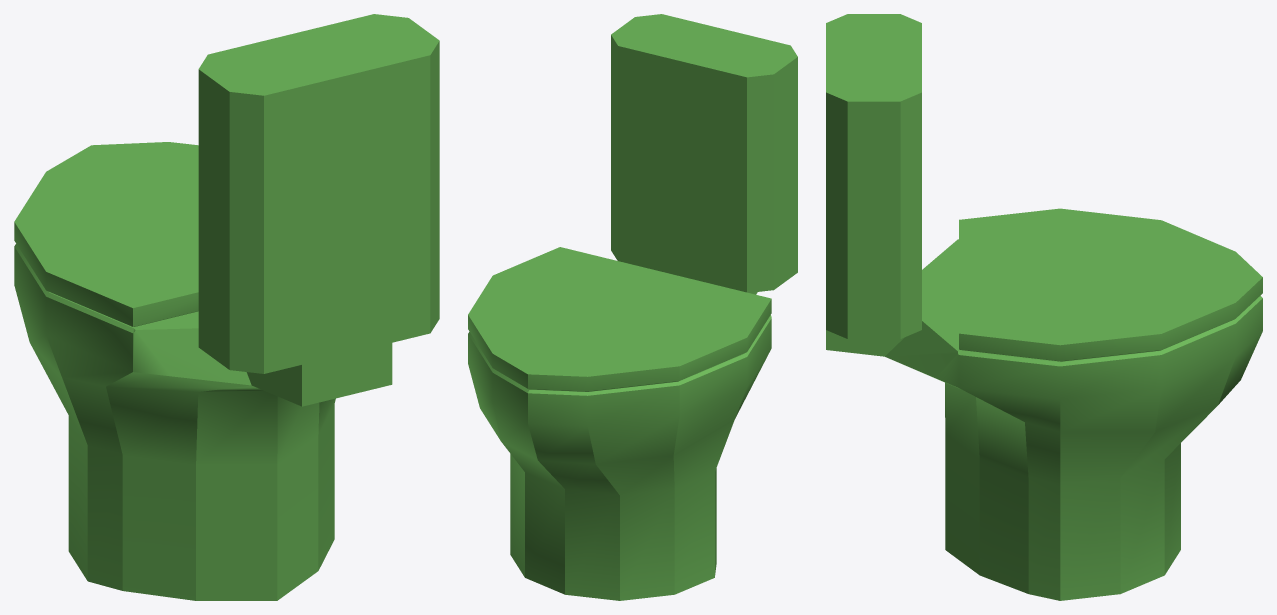
File: Toilet.fbx
3 views of the same model, side by side, from view 1: azimuth 30°, elevation 25°; view 2: azimuth 150°, elevation 25°; view 3: azimuth 270°, elevation 25° (orthographic). The views are drawn at different scales.
Visible parts, largest first — view 1: polySurface2, polySurface3; view 2: polySurface2, polySurface3; view 3: polySurface2, polySurface3.
Part boxes in pixels (<box>): polySurface2: <box>14,14,439,600</box>; polySurface3: <box>14,142,198,326</box>; polySurface2: <box>468,14,797,600</box>; polySurface3: <box>468,247,771,391</box>; polySurface2: <box>826,14,1262,600</box>; polySurface3: <box>959,208,1262,361</box>.
Size of the model in its own units: 71.11 by 119 by 96.07.
